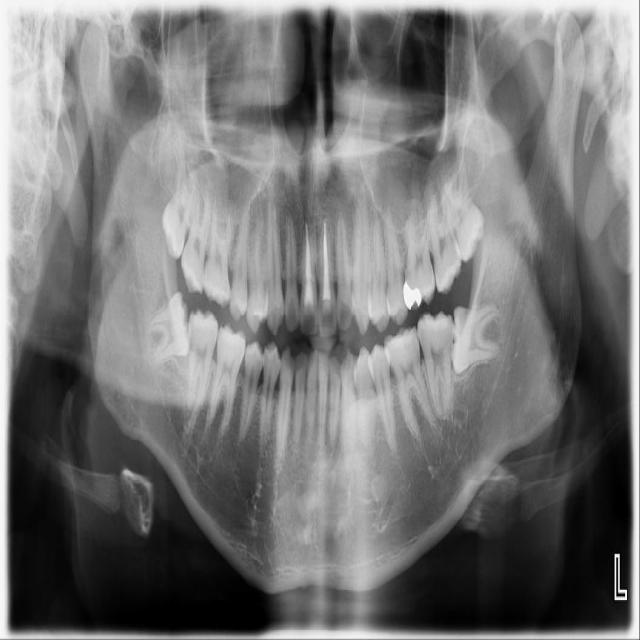Filling: (402, 280, 422, 312)
Periapical lesion: (450, 406, 467, 423)
Root Canal Treatment: (321, 222, 332, 300), (304, 224, 314, 302)
impacted tooth: (452, 302, 505, 375), (136, 296, 188, 365)
